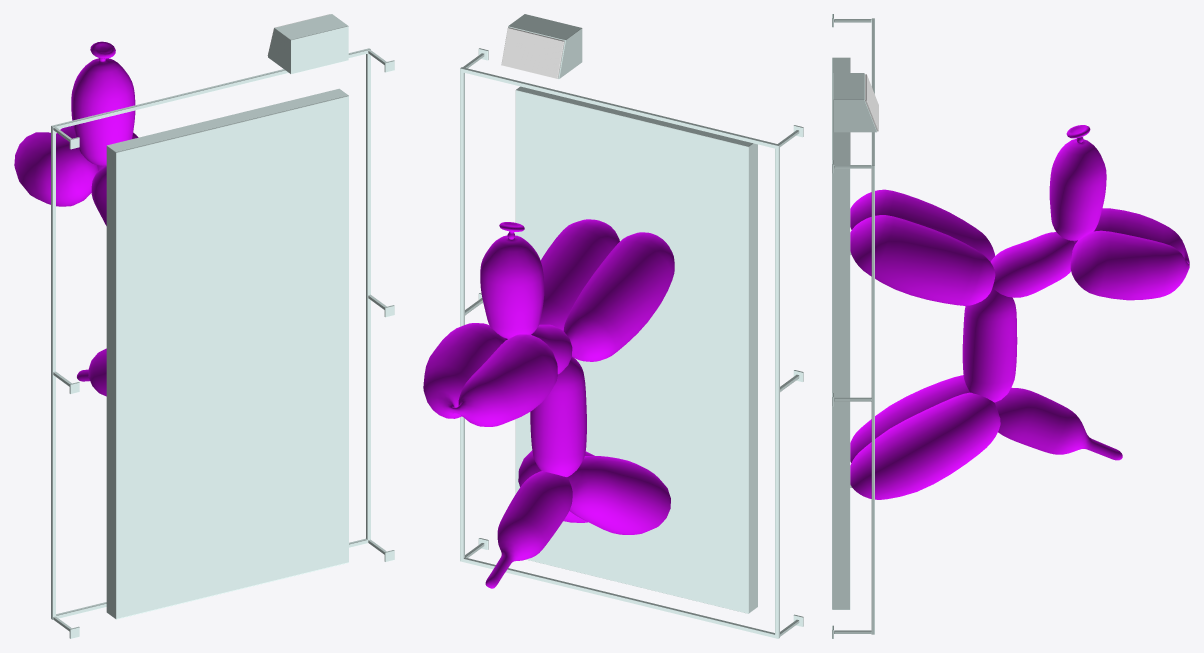
3 renders of one model, left to right at view 1: azimuth 30°, elevation 25°; view 2: azimuth 150°, elevation 25°; view 3: azimuth 270°, elevation 25°, orthographic. The views are drawn at different scales.
Parts seen in each view (by area): view 1: imagetostl_mesh1, imagetostl_mesh0, imagetostl_mesh2, imagetostl_mesh3; view 2: imagetostl_mesh1, imagetostl_mesh0, imagetostl_mesh2, imagetostl_mesh4, imagetostl_mesh3; view 3: imagetostl_mesh0, imagetostl_mesh1, imagetostl_mesh2, imagetostl_mesh3.
Boxes of the visible parts, x1=… form: imagetostl_mesh1: x1=106, y1=88, x2=348, y2=619; imagetostl_mesh0: x1=14, y1=41, x2=138, y2=396; imagetostl_mesh2: x1=51, y1=48, x2=394, y2=638; imagetostl_mesh3: x1=268, y1=14, x2=348, y2=74; imagetostl_mesh1: x1=515, y1=86, x2=757, y2=613; imagetostl_mesh0: x1=423, y1=219, x2=674, y2=588; imagetostl_mesh2: x1=460, y1=48, x2=803, y2=638; imagetostl_mesh4: x1=501, y1=27, x2=564, y2=78; imagetostl_mesh3: x1=508, y1=14, x2=582, y2=79; imagetostl_mesh0: x1=850, y1=125, x2=1189, y2=499; imagetostl_mesh1: x1=832, y1=57, x2=850, y2=609; imagetostl_mesh2: x1=832, y1=14, x2=874, y2=638; imagetostl_mesh3: x1=833, y1=73, x2=877, y2=132.
Size of the model in its own units: 270 by 434 by 272.
